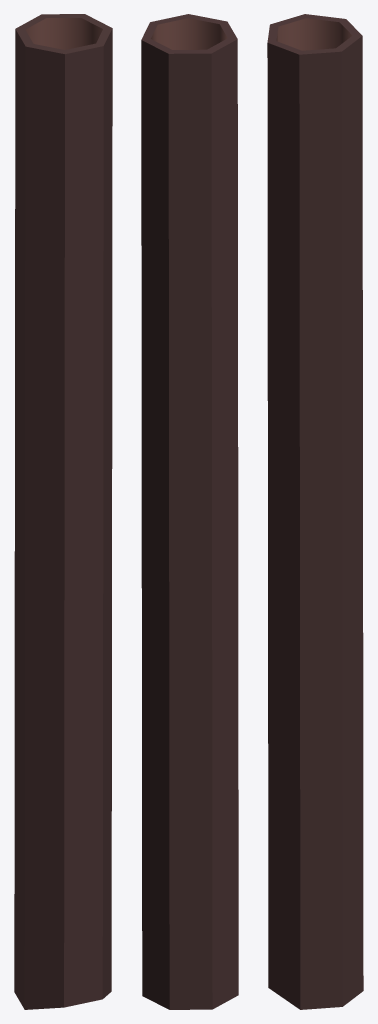
Rendered from DarkRoseWoodMechLargeFellableTree.fbx.
3 renders of one model, left to right at view 1: azimuth 30°, elevation 25°; view 2: azimuth 210°, elevation 25°; view 3: azimuth 270°, elevation 25°, orthographic.
Visible parts, largest first — view 1: DarkRoseWoodMechLargeFellableTree; view 2: DarkRoseWoodMechLargeFellableTree; view 3: DarkRoseWoodMechLargeFellableTree.
Part boxes in pixels (x1,y1,x2,y2): DarkRoseWoodMechLargeFellableTree: (14, 14, 112, 1009); DarkRoseWoodMechLargeFellableTree: (141, 14, 238, 1009); DarkRoseWoodMechLargeFellableTree: (267, 14, 363, 1009).
Size of the model in its own units: 100 by 1093 by 99.58.
